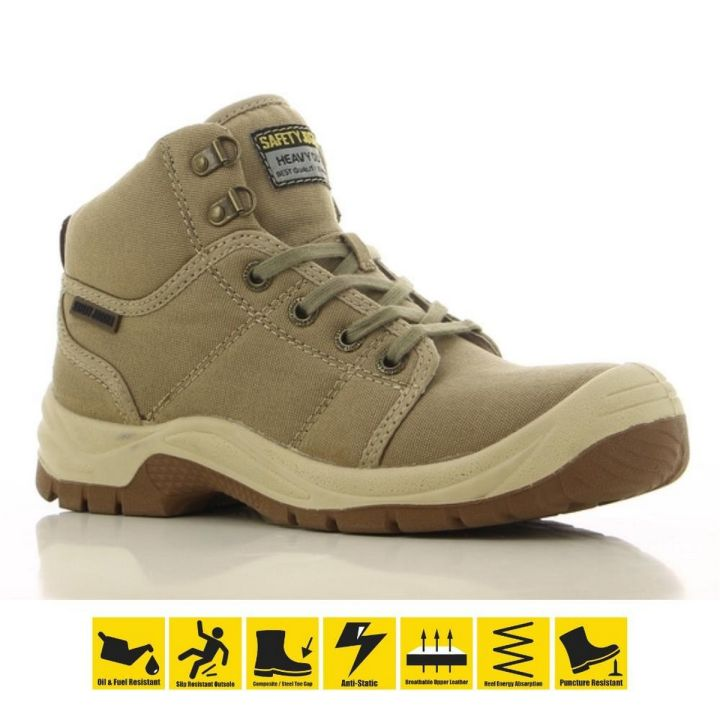Steel-toe Boots: (47, 89, 695, 541)
